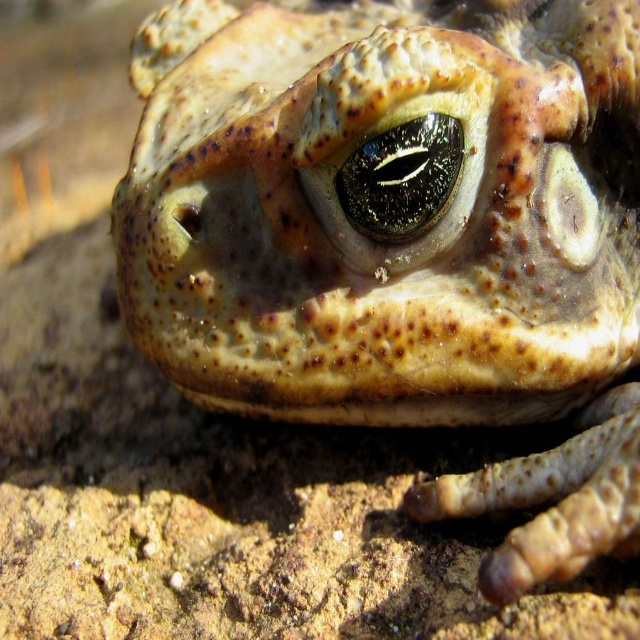Frog: (107, 0, 640, 610)
